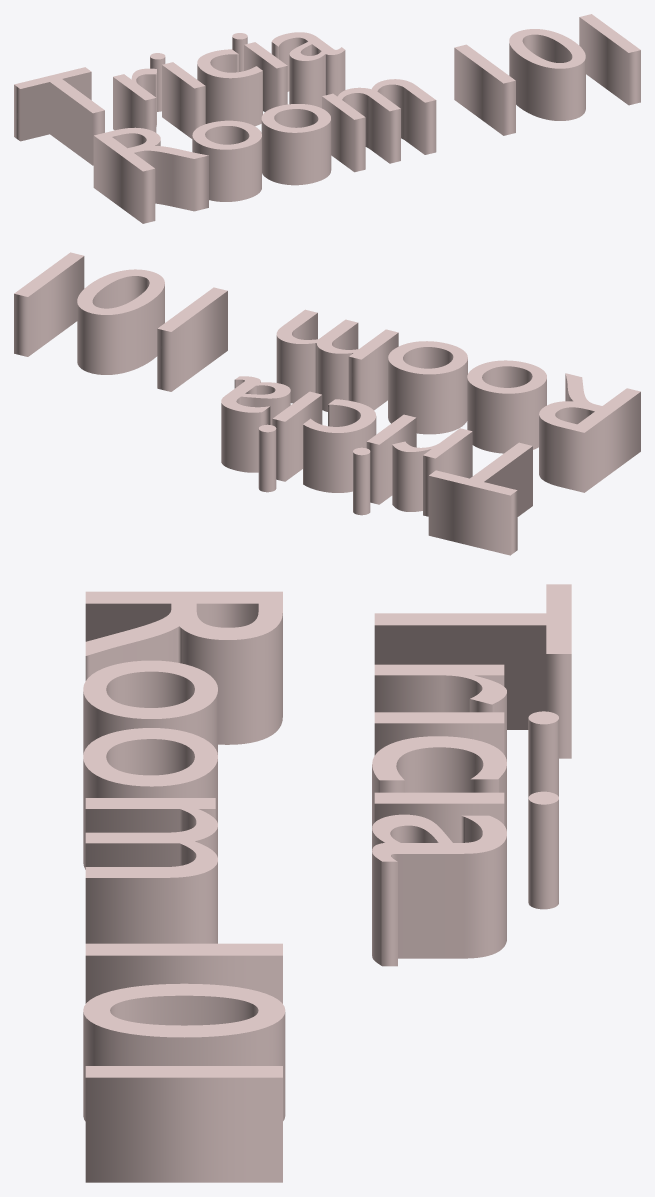
File: tricia-101.gltf
3 views of the same model, one above another, from view 1: azimuth 30°, elevation 25°; view 2: azimuth 150°, elevation 25°; view 3: azimuth 270°, elevation 25° (orthographic). The views are drawn at different scales.
Visible parts, largest first — view 1: Text; view 2: Text; view 3: Text.
Boxes of the visible parts, x1,y1,x2,y2 form: Text: (14,14,640,223); Text: (14,252,640,555); Text: (83,584,571,1182).
Bounding box in the file's own units: 4.04 × 0.4 × 1.69.
